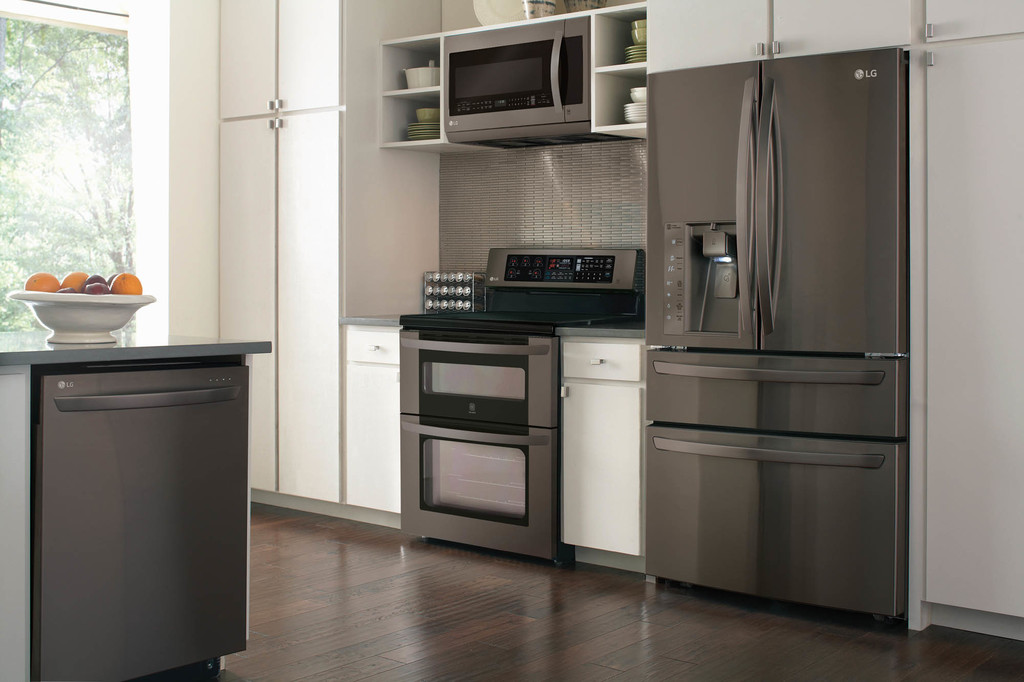cabinet door: (927, 43, 1024, 599), (271, 113, 350, 494), (553, 381, 642, 557), (222, 118, 270, 335), (648, 2, 763, 59), (278, 2, 337, 110), (221, 2, 276, 108), (777, 10, 893, 54), (925, 2, 1015, 33), (563, 348, 643, 376), (348, 333, 401, 361)
handle: (650, 425, 886, 481), (652, 352, 890, 395), (723, 85, 762, 323), (750, 87, 783, 329), (52, 384, 244, 420), (396, 332, 553, 363), (406, 420, 548, 453), (555, 380, 575, 407), (766, 34, 786, 59), (583, 350, 609, 368), (925, 46, 941, 73), (747, 39, 769, 58), (360, 339, 385, 355), (920, 21, 940, 41), (273, 113, 287, 135), (260, 116, 276, 134), (262, 91, 274, 113), (270, 98, 286, 112)
refrigerator door: (650, 426, 898, 591), (770, 61, 902, 357), (649, 73, 763, 355), (646, 354, 902, 421)
